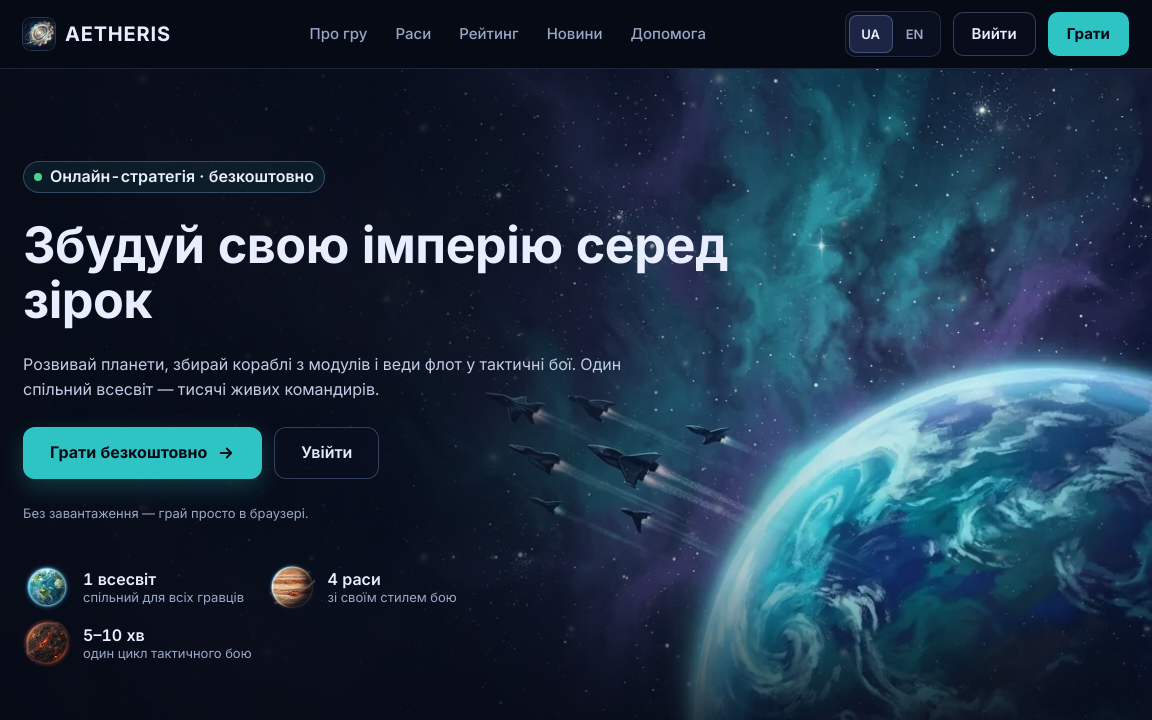
Test: LandingPage › offers sign-out to a signed-in player
Click the button "Вийти": x=994, y=34 953,12 -> 1036,56
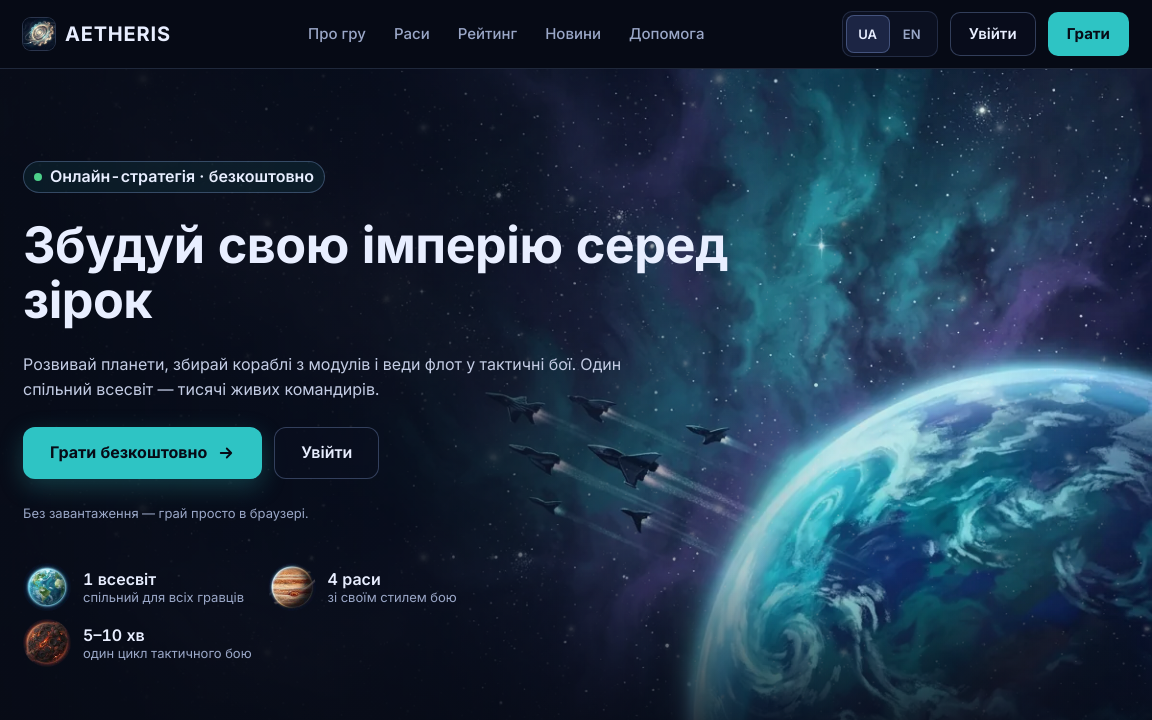
Expected: the 1st link "Увійти" is shown, 950,12 -> 1036,56
